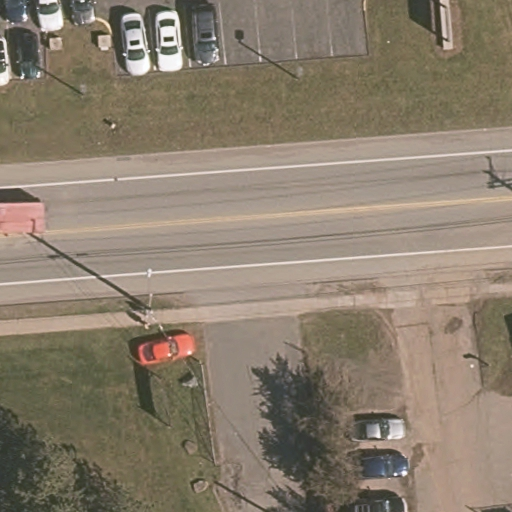DT: (129, 261, 166, 336)
